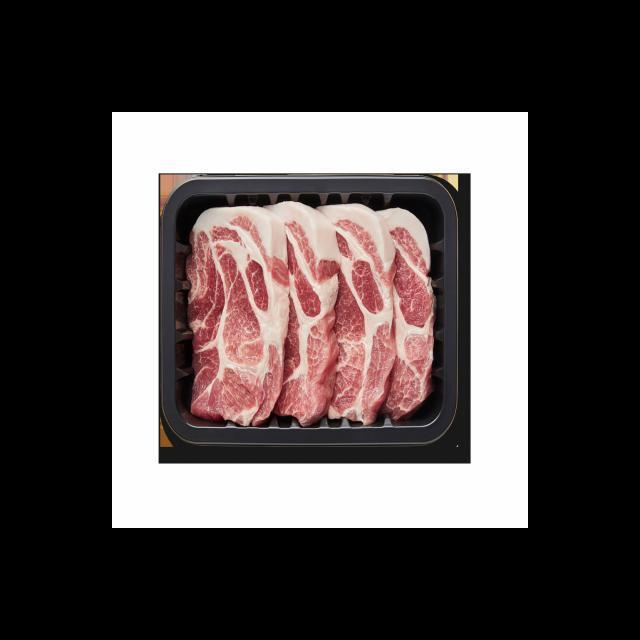pork: (185, 200, 439, 421)
